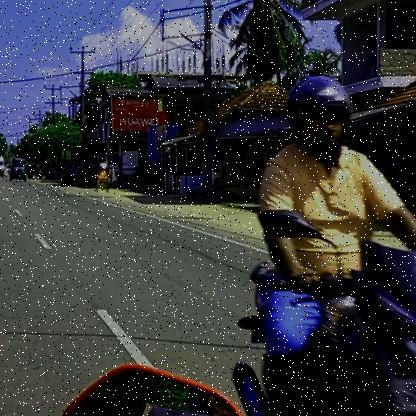motorcycle: (230, 240, 416, 416)
